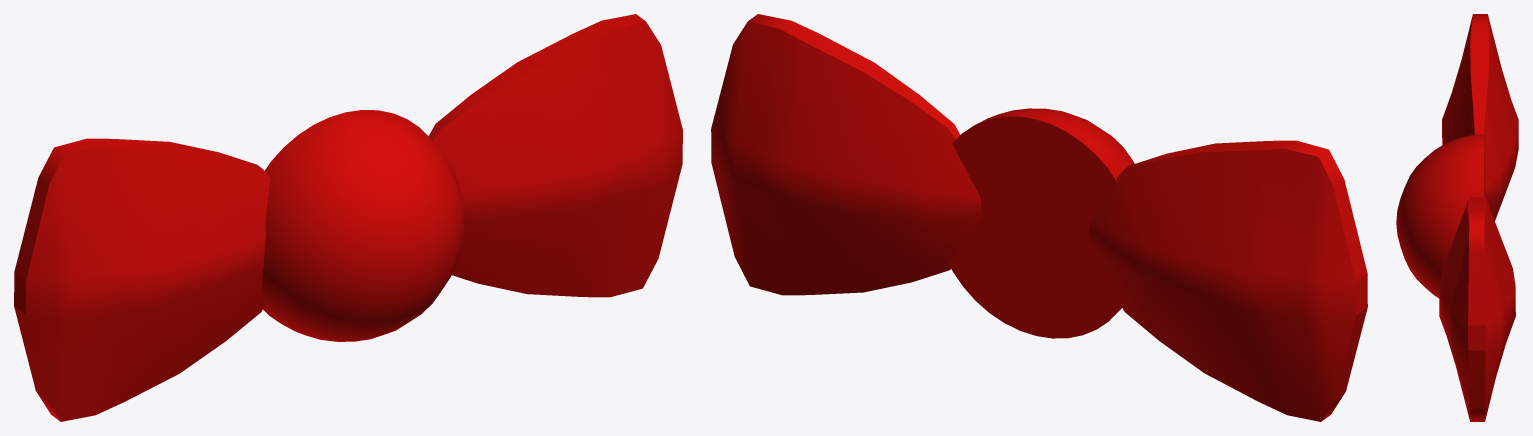
The model's file is Nekutai.fbx.
3 views of the same model, side by side, from view 1: azimuth 30°, elevation 25°; view 2: azimuth 150°, elevation 25°; view 3: azimuth 270°, elevation 25° (orthographic). The views are drawn at different scales.
Visible parts, largest first — view 1: Nekutai; view 2: Nekutai; view 3: Nekutai.
Boxes of the visible parts, box(x1,y1,x2,y2) form: Nekutai: box(14, 14, 682, 421); Nekutai: box(711, 14, 1367, 421); Nekutai: box(1396, 14, 1518, 421).
Bounding box in the file's own units: 6.37 × 2.54 × 1.4.
